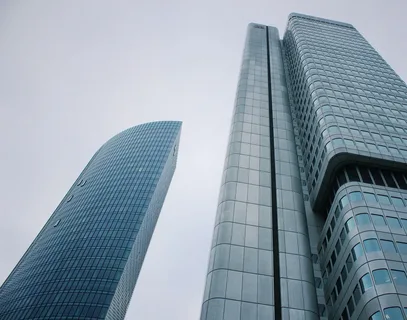high_rise_building: (227, 12, 382, 318), (63, 113, 185, 306)
